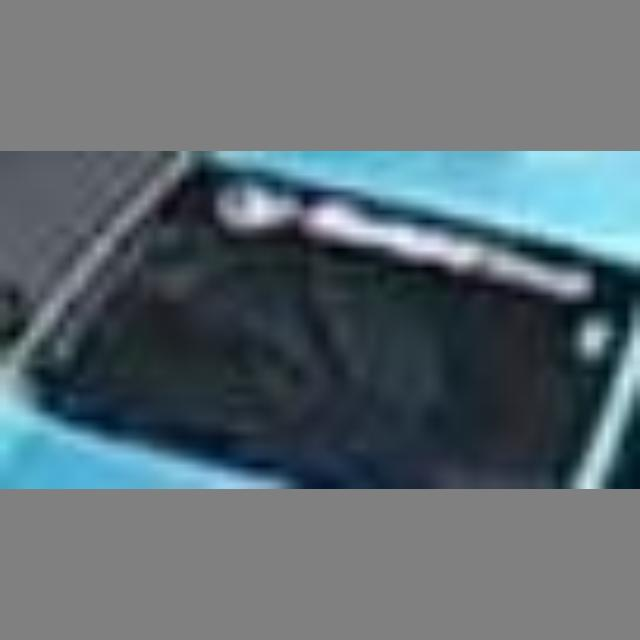pakai: (207, 245, 480, 433)
